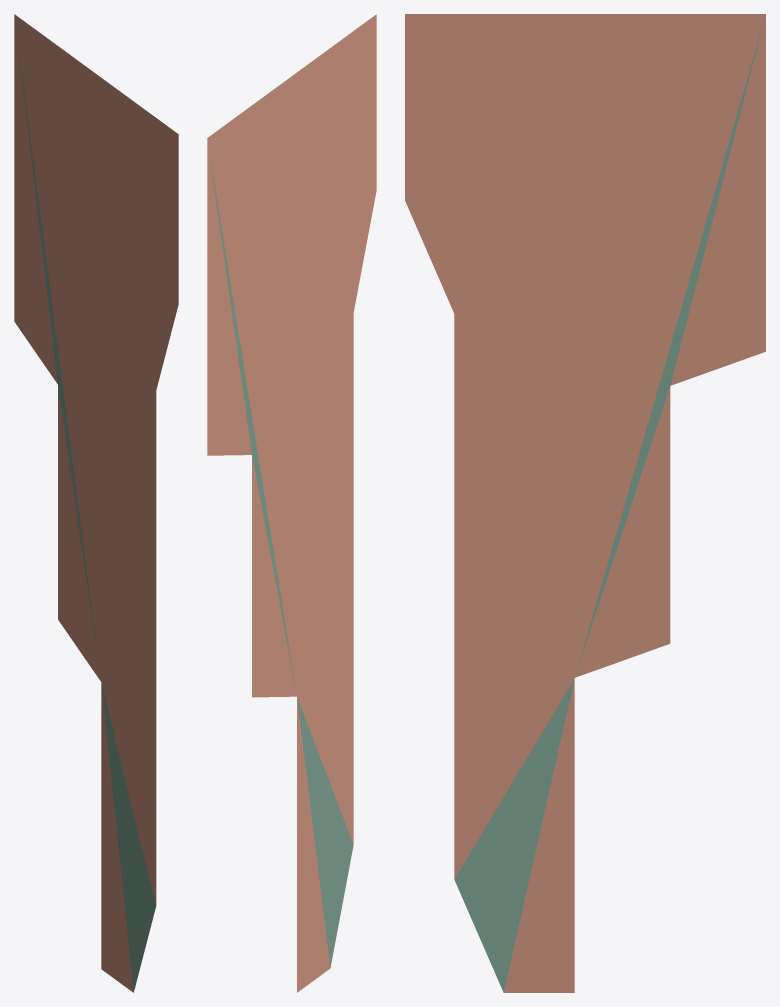
Rendered from Nature Nature Flower 7.fbx.
The picture shows the model from 3 angles, left to right: view 1: azimuth 30°, elevation 25°; view 2: azimuth 150°, elevation 25°; view 3: azimuth 270°, elevation 25°; orthographic projection. The views are drawn at different scales.
Visible parts, largest first — view 1: Nature Nature Flower 7; view 2: Nature Nature Flower 7; view 3: Nature Nature Flower 7.
Boxes of the visible parts, x1=… form: Nature Nature Flower 7: x1=14, y1=14, x2=178, y2=992; Nature Nature Flower 7: x1=207, y1=14, x2=376, y2=992; Nature Nature Flower 7: x1=405, y1=14, x2=765, y2=992.
Bounding box in the file's own units: 0 × 1.37 × 0.4567.
